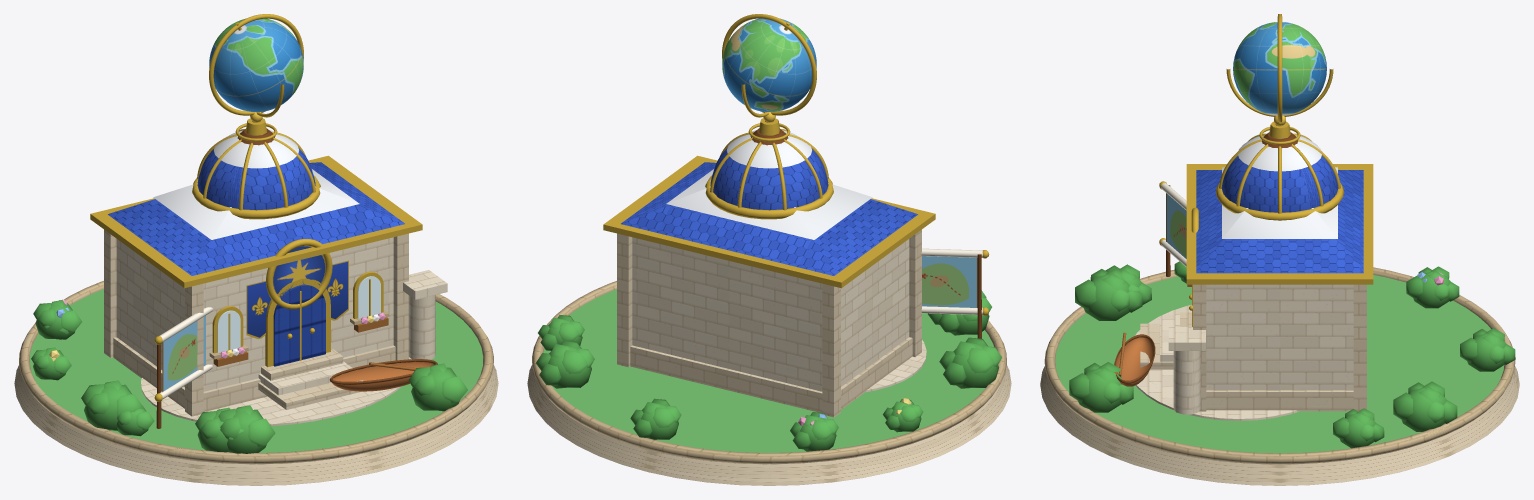
Rendered from bldg-univers-social.glb.
3 renders of one model, left to right at view 1: azimuth 30°, elevation 25°; view 2: azimuth 150°, elevation 25°; view 3: azimuth 270°, elevation 25°, orthographic.
Parts seen in each view (by area): view 1: bldg-social, spin, snow (×2); view 2: bldg-social, spin, snow (×2); view 3: bldg-social, spin, snow (×2).
Part boxes in pixels (x1,y1,x2,y2): bldg-social: (14,14,498,485); spin: (209,18,303,111); snow (×2): (153,130,359,239); bldg-social: (527,14,1011,485); spin: (722,18,816,111); snow (×2): (666,130,872,239); bldg-social: (1040,14,1519,485); spin: (1233,22,1326,115); snow (×2): (1222,135,1337,238).
Size of the model in its own units: 7.76 by 6.52 by 7.76.
Materials: 28 (10 with a texture image).
